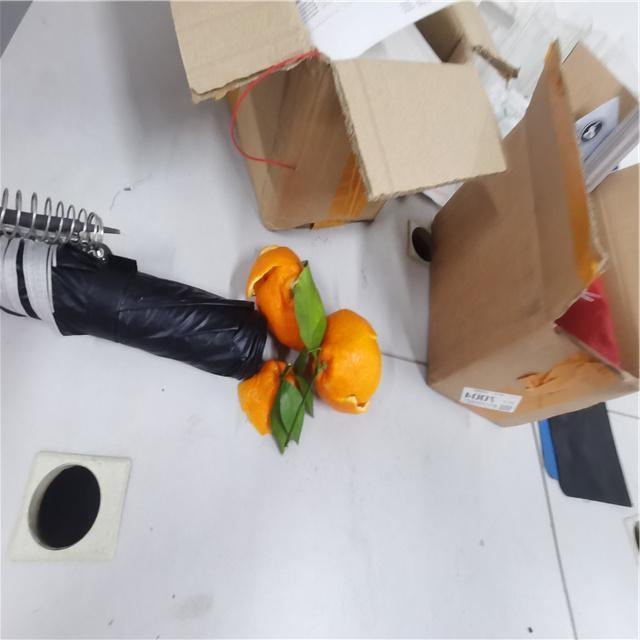orange peel: (203, 302, 409, 478), (244, 242, 339, 373)
